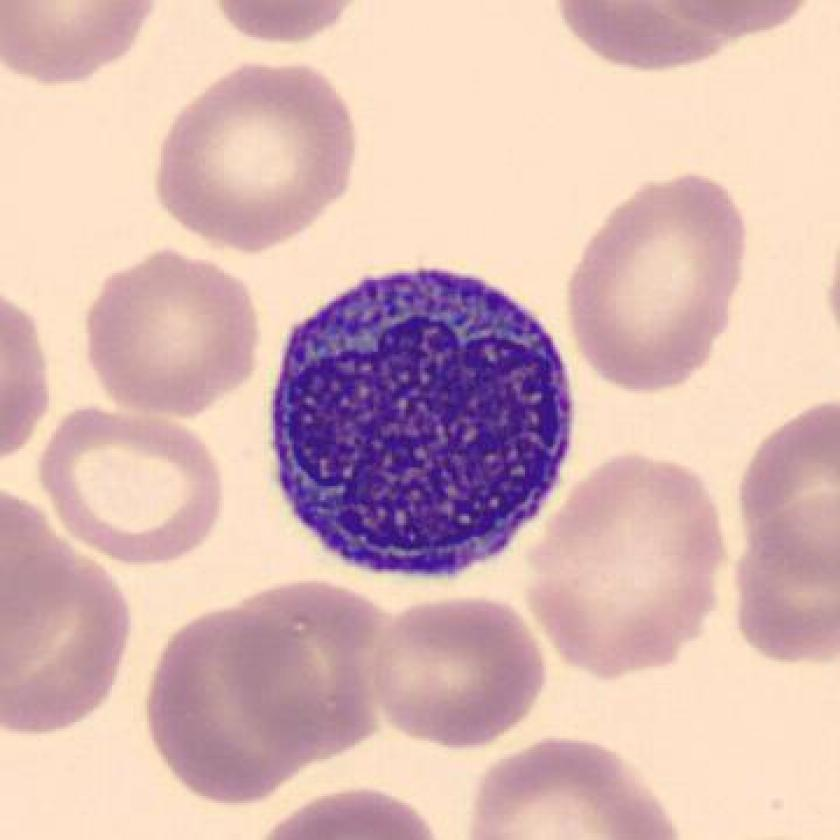monocyte: (251, 249, 591, 594)
